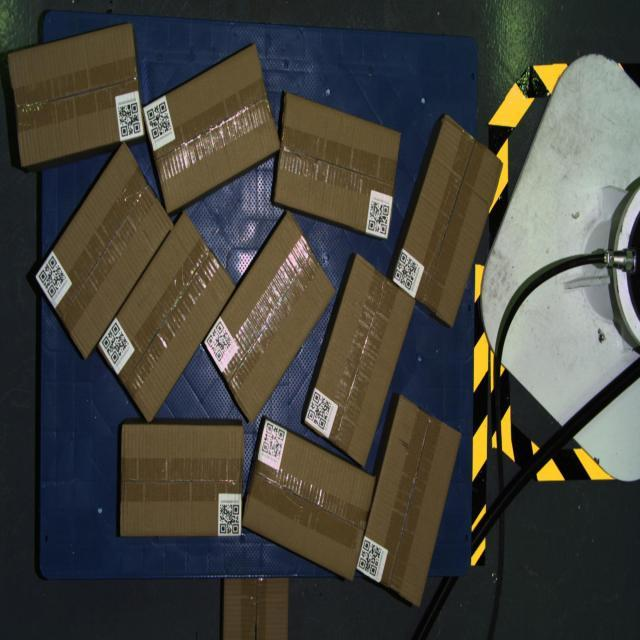box: (34, 141, 174, 360), (97, 211, 236, 425), (204, 210, 336, 425), (392, 113, 504, 328), (304, 253, 416, 467), (142, 43, 281, 213), (355, 395, 461, 608), (241, 418, 375, 581), (7, 22, 145, 167), (274, 93, 402, 239), (120, 424, 244, 536)
